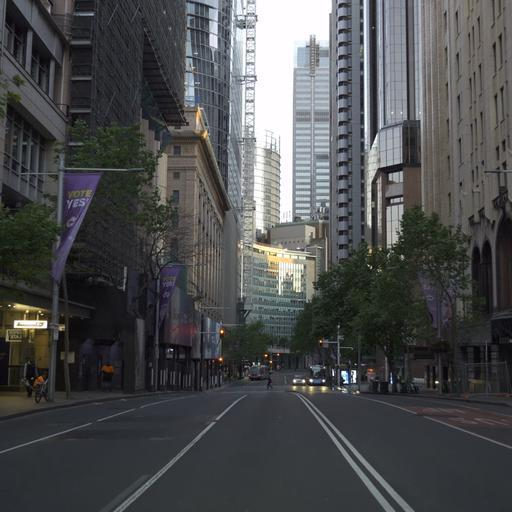Street light: (296, 243, 341, 387), (483, 167, 511, 175), (296, 244, 323, 251), (219, 328, 224, 338), (318, 338, 323, 346)
